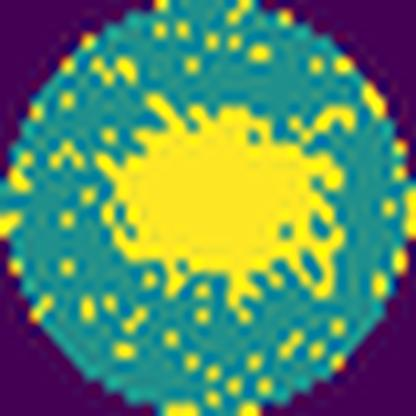Center: (98, 94, 347, 316)
